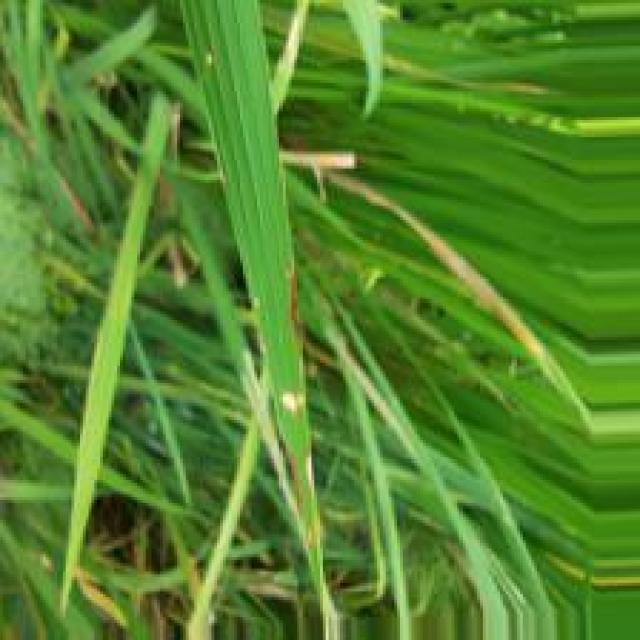Brown_Spot: (287, 270, 302, 348)
